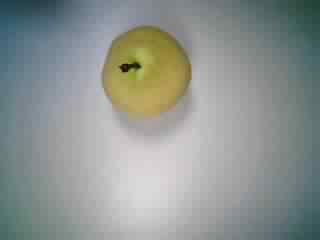pear: (91, 15, 196, 128)
